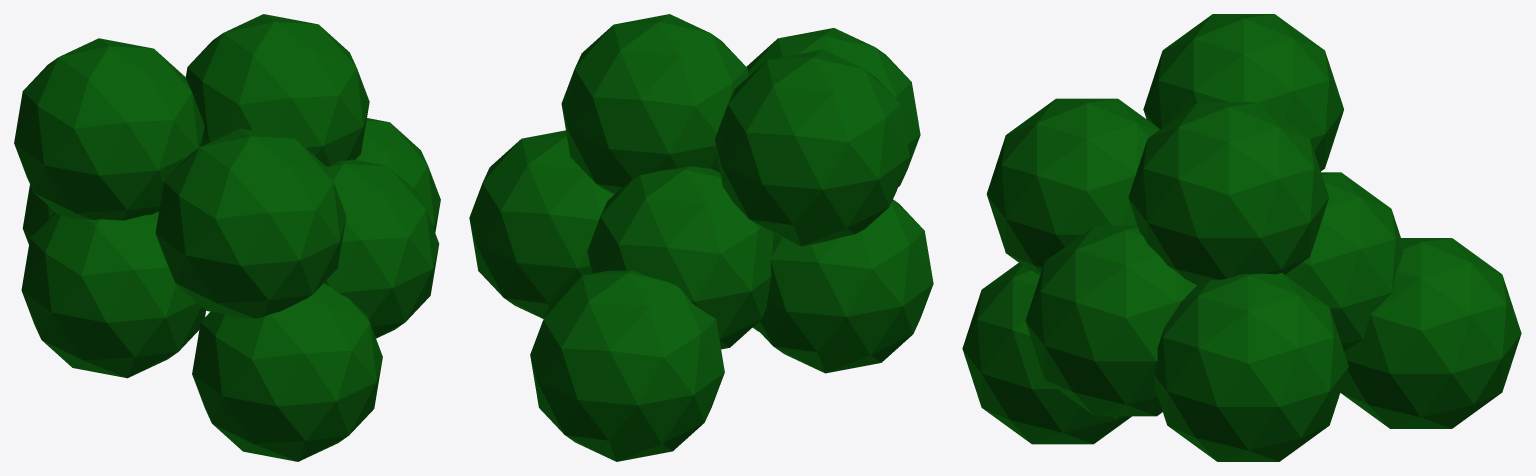
File: Tree_V2.2_Leaves.gltf
3 renders of one model, left to right at view 1: azimuth 30°, elevation 25°; view 2: azimuth 150°, elevation 25°; view 3: azimuth 270°, elevation 25°, orthographic. The views are drawn at different scales.
Visible parts, largest first — view 1: Leaves; view 2: Leaves; view 3: Leaves.
Boxes of the visible parts, left/top/right/bottom form: Leaves: left=14, top=14, right=440, bottom=461; Leaves: left=469, top=14, right=933, bottom=461; Leaves: left=962, top=14, right=1521, bottom=461.
Size of the model in its own units: 4.25 by 3.65 by 4.91.
Materials: 1 (1 with a texture image).
